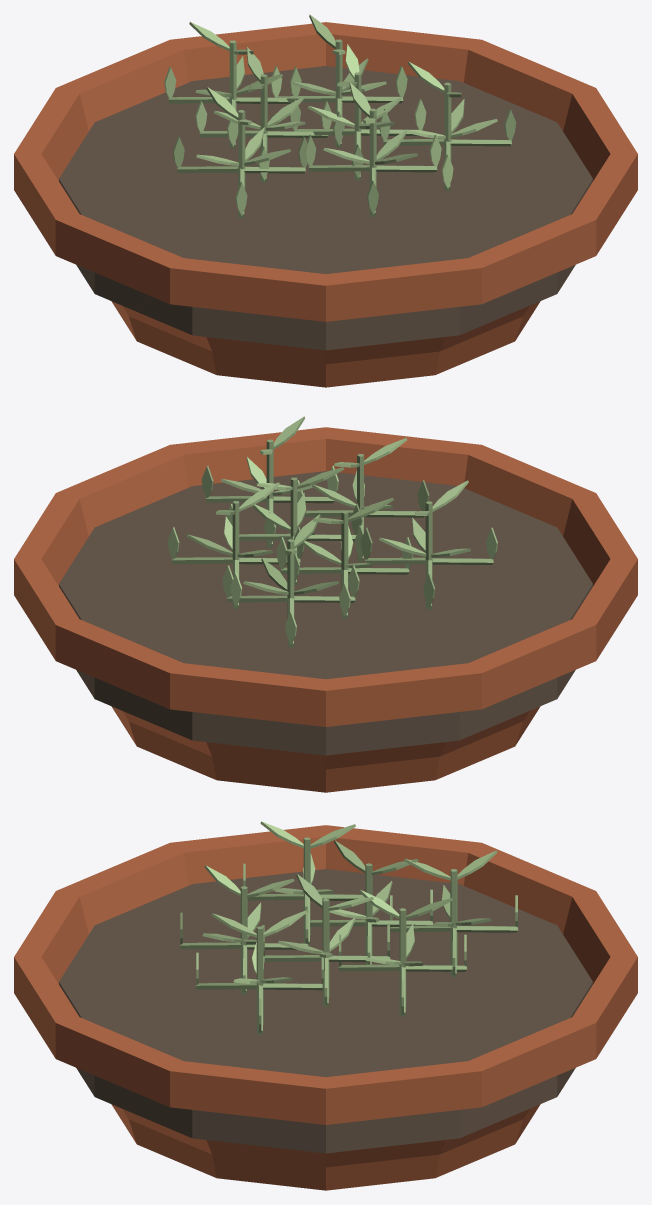
The model's file is moss-palustre.glb.
3 views of the same model, one above another, from view 1: azimuth 30°, elevation 25°; view 2: azimuth 150°, elevation 25°; view 3: azimuth 270°, elevation 25° (orthographic).
Parts seen in each view (by area): view 1: moss-palustre/review-rooted-soil, moss-palustre/review-terra-vessel; view 2: moss-palustre/review-rooted-soil, moss-palustre/review-terra-vessel; view 3: moss-palustre/review-rooted-soil, moss-palustre/review-terra-vessel, moss-palustre/moss-stem-037.
Part boxes in pixels (x1,y1,x2,y2): moss-palustre/review-rooted-soil: (59, 66, 592, 350); moss-palustre/review-terra-vessel: (14, 22, 637, 387); moss-palustre/review-rooted-soil: (59, 471, 592, 755); moss-palustre/review-terra-vessel: (14, 427, 637, 792); moss-palustre/review-rooted-soil: (59, 869, 592, 1153); moss-palustre/review-terra-vessel: (14, 825, 637, 1190); moss-palustre/moss-stem-037: (399, 908, 406, 1006).
Bounding box in the file's own units: 0.25 × 0.0988 × 0.25.
Materials: 3 (3 with a texture image).
